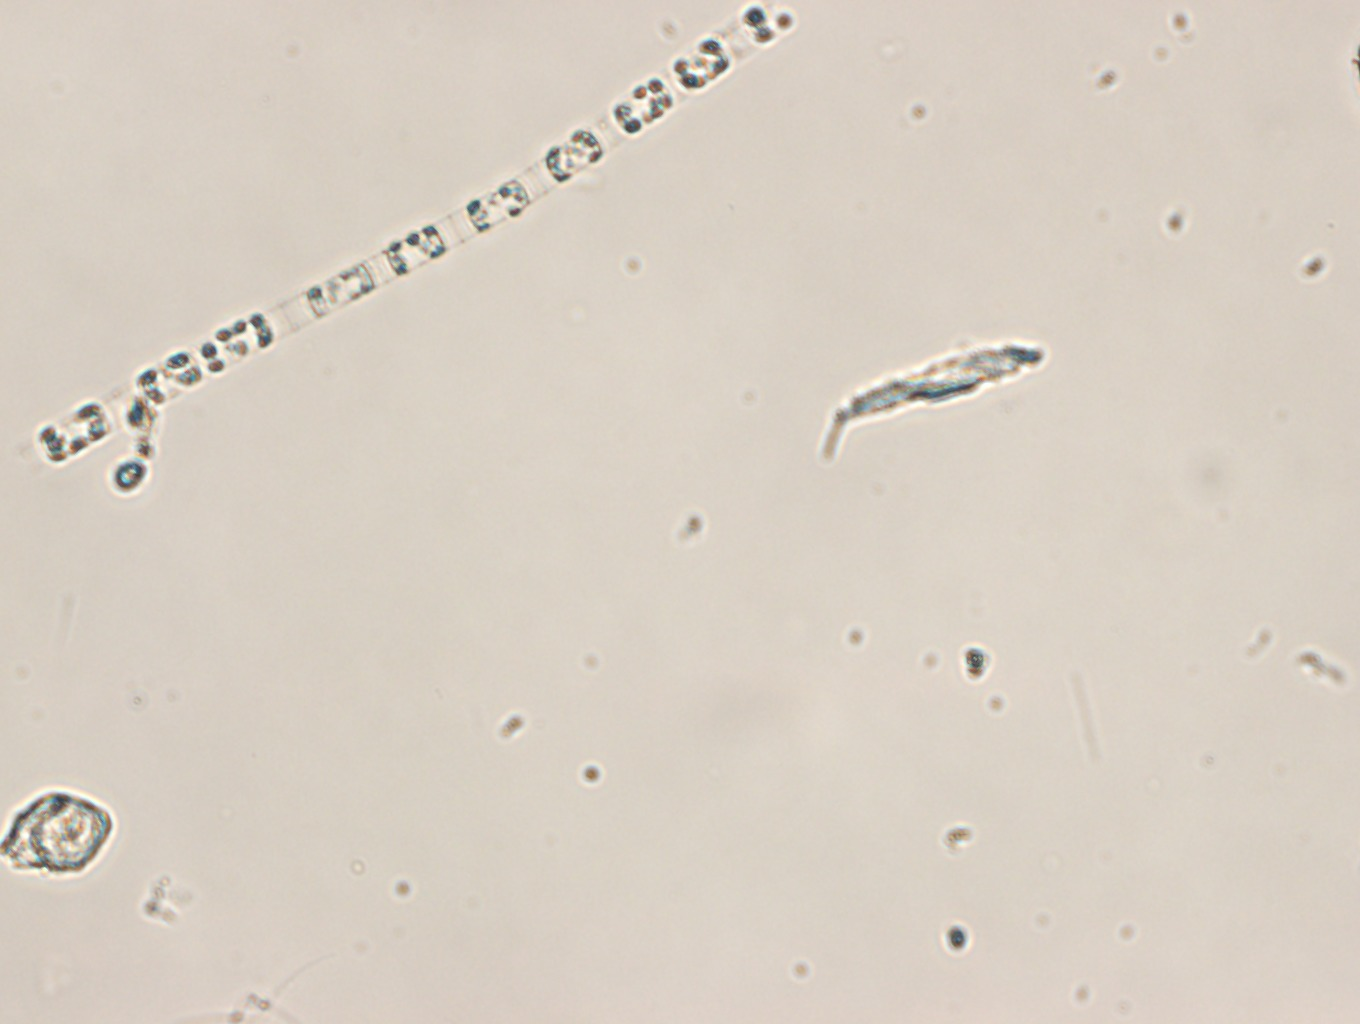skeletonema: (29, 1, 793, 469)
